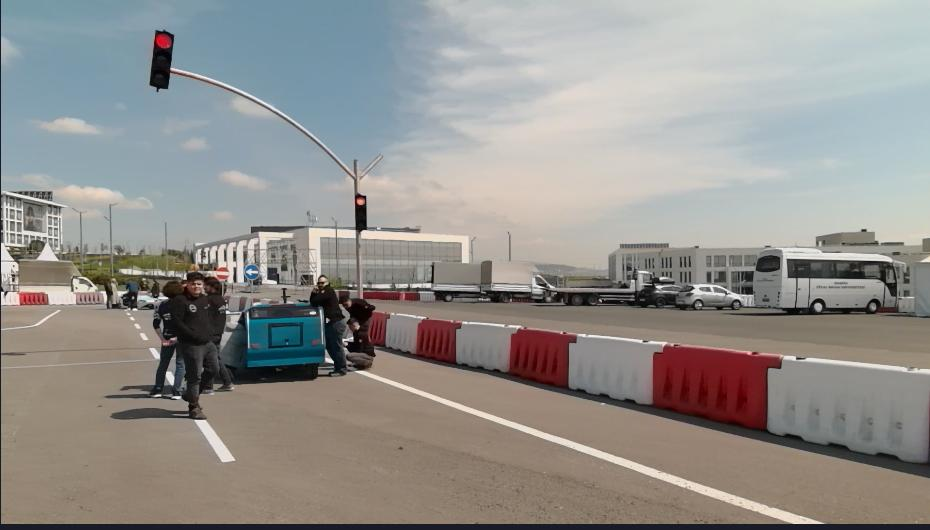nesne: (2, 303, 817, 527), (187, 348, 819, 525), (363, 309, 927, 466), (358, 371, 819, 524), (0, 303, 275, 526), (767, 353, 927, 465), (654, 341, 774, 435), (753, 246, 906, 310), (240, 284, 325, 377), (173, 272, 220, 419), (570, 330, 659, 407), (147, 280, 185, 397), (507, 325, 574, 390), (309, 272, 349, 373), (541, 270, 654, 305), (456, 320, 522, 374), (204, 276, 233, 387), (480, 260, 553, 302), (18, 260, 98, 292), (430, 261, 482, 302), (414, 315, 457, 364), (674, 283, 742, 311), (192, 419, 236, 462), (149, 29, 176, 95), (344, 316, 376, 370), (384, 313, 419, 355), (337, 289, 375, 327), (0, 308, 61, 331), (221, 312, 245, 367), (635, 283, 679, 308), (364, 311, 387, 345), (101, 272, 117, 309), (123, 276, 140, 310), (355, 192, 367, 234), (146, 275, 160, 310), (74, 290, 103, 305), (19, 291, 49, 304), (49, 290, 74, 304), (0, 292, 19, 305), (244, 264, 259, 279), (215, 267, 230, 280), (148, 346, 158, 359), (138, 331, 148, 340)
